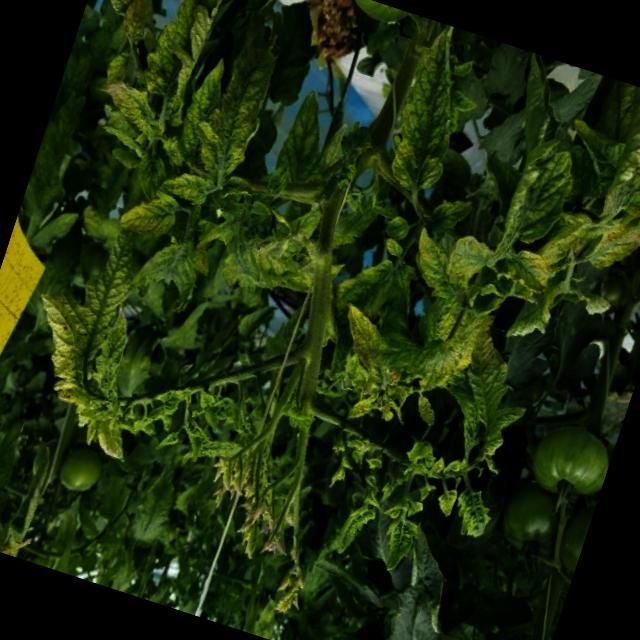Tomato yellow virus leaf: (14, 214, 148, 406), (371, 18, 490, 210), (182, 19, 294, 196), (441, 317, 552, 463), (126, 0, 240, 124), (496, 114, 590, 258), (576, 91, 640, 289), (268, 84, 340, 196), (326, 283, 406, 382), (86, 70, 181, 147), (392, 226, 478, 311), (117, 183, 188, 244), (438, 226, 502, 292), (374, 510, 424, 578), (508, 240, 561, 300)
